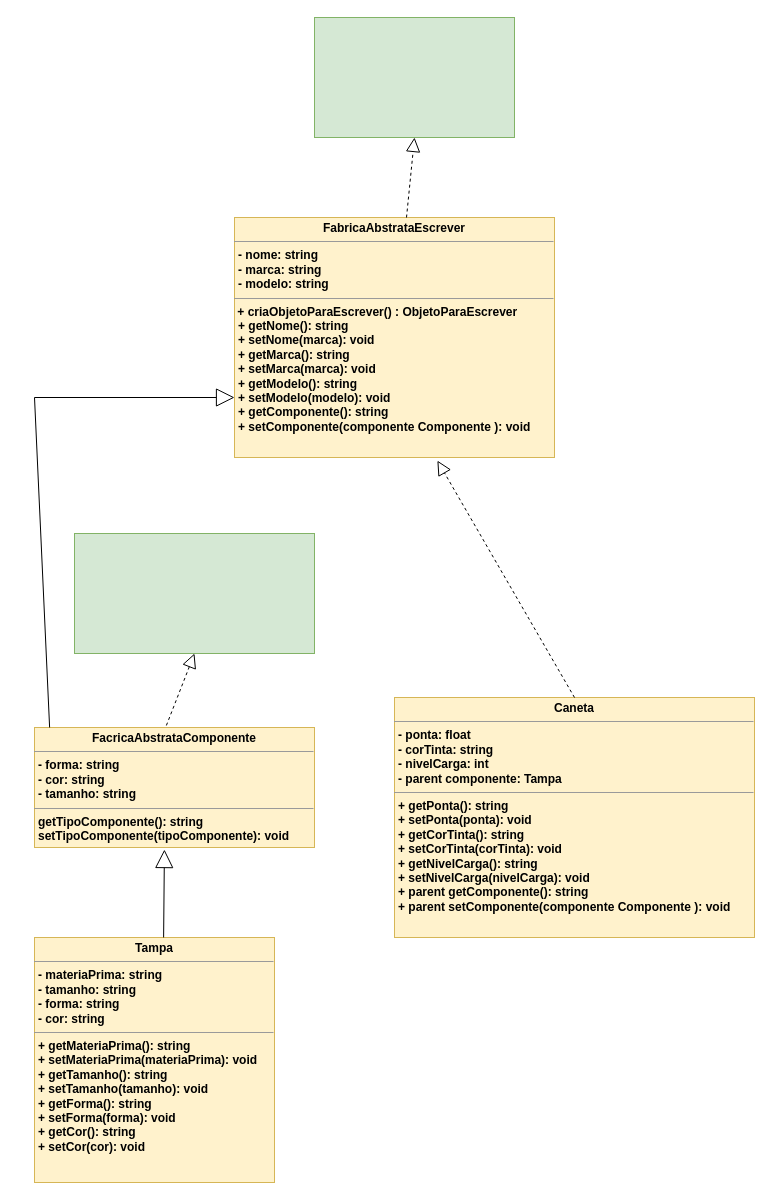
Some shapes in this 772 by 1200 pixel diagram are drawn without their labels. The shapes that lost their labels are listed below. From the top down, each one's box as (x1, y1, x2, y2) in pixels, then its label:
(314, 16, 514, 138): <<Interface>> ObjetoEscrever + escrever(): boolean
(74, 532, 314, 654): <<Interface>> ObjetoComponente + executaTarefa(): boolean
